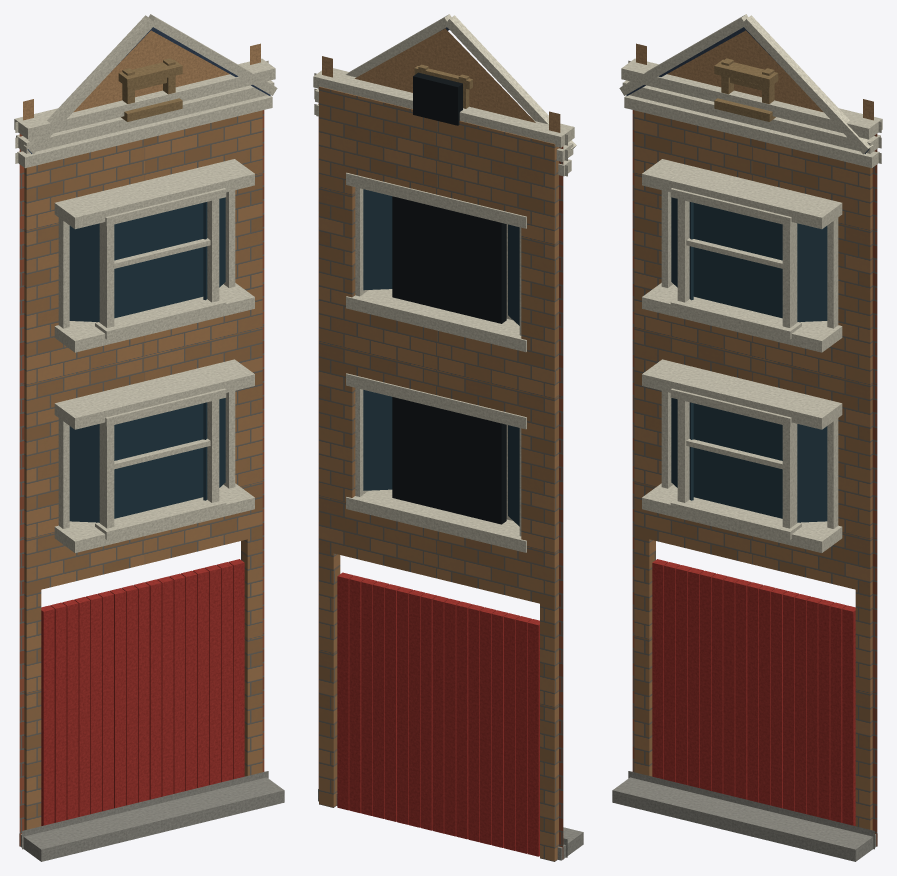
The model's file is VICT2A_lod2.glb.
The picture shows the model from 3 angles, left to right: view 1: azimuth 30°, elevation 25°; view 2: azimuth 150°, elevation 25°; view 3: azimuth 330°, elevation 25°; orthographic projection.
Parts seen in each view (by area): view 1: VICT2A_FRONT_LOD2; view 2: VICT2A_FRONT_LOD2; view 3: VICT2A_FRONT_LOD2.
Part boxes in pixels (<box>): VICT2A_FRONT_LOD2: <box>14,14,284,861</box>; VICT2A_FRONT_LOD2: <box>313,14,583,861</box>; VICT2A_FRONT_LOD2: <box>612,14,882,861</box>.
Size of the model in its own units: 3.44 by 10.46 by 0.705.
Materials: 11 (9 with a texture image).
